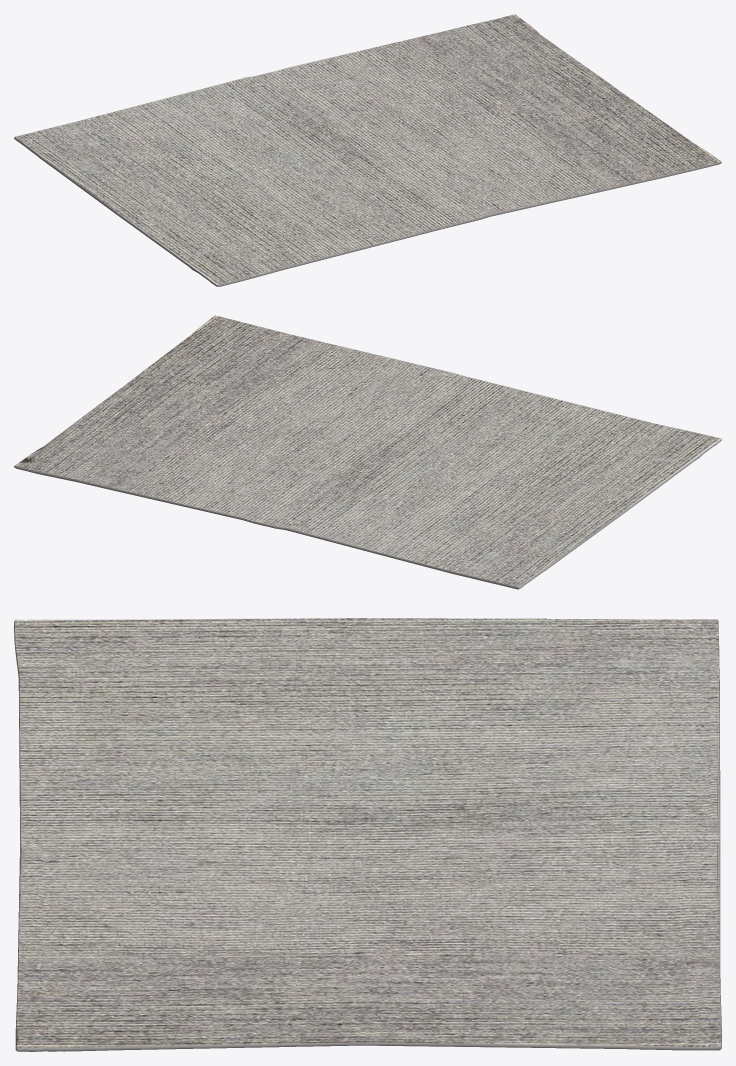
The model's file is rug.glb.
3 renders of one model, top to bottom at view 1: azimuth 30°, elevation 25°; view 2: azimuth 150°, elevation 25°; view 3: azimuth 270°, elevation 25°, orthographic. The views are drawn at different scales.
Parts seen in each view (by area): view 1: RootNode; view 2: RootNode; view 3: RootNode.
Boxes of the visible parts, x1,y1,x2,y2 form: RootNode: [14, 14, 721, 286]; RootNode: [14, 315, 721, 589]; RootNode: [14, 618, 721, 1051].
Size of the model in its own units: 2.31 by 0.0296 by 1.6.
1 material, 1 textured.
